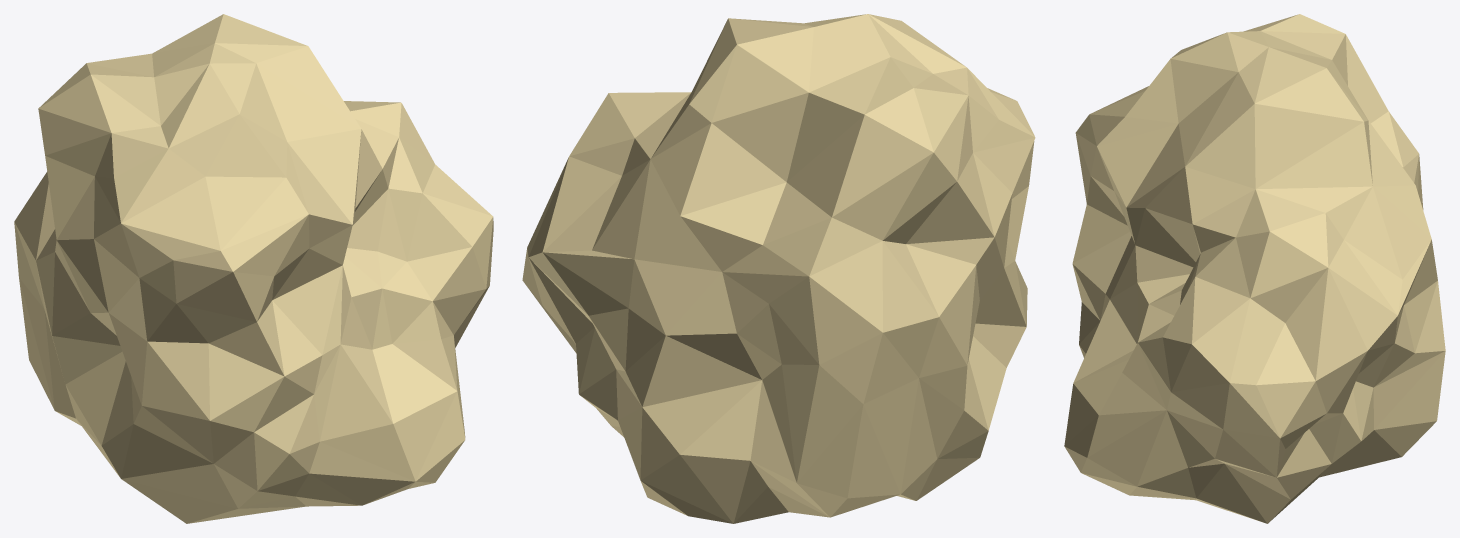
The model's file is Asteroid (110).fbx.
The picture shows the model from 3 angles, left to right: view 1: azimuth 30°, elevation 25°; view 2: azimuth 150°, elevation 25°; view 3: azimuth 270°, elevation 25°; orthographic projection. The views are drawn at different scales.
Visible parts, largest first — view 1: Asteroid152; view 2: Asteroid152; view 3: Asteroid152.
Part boxes in pixels (bbox=[...]): Asteroid152: bbox=[14, 14, 493, 523]; Asteroid152: bbox=[522, 14, 1035, 523]; Asteroid152: bbox=[1064, 14, 1445, 523].
Bounding box in the file's own units: 289 × 292 × 241.
